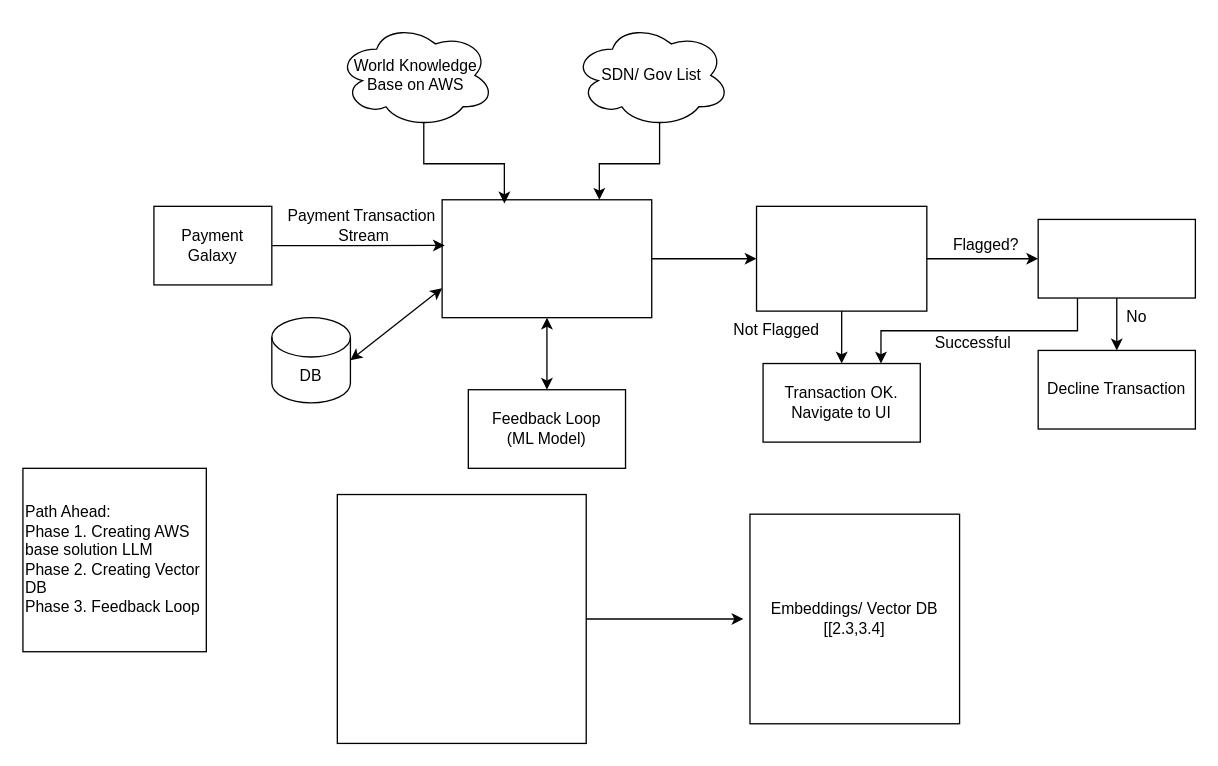
Image size: 1218x766. Some labels were removed from this diagram. Here are the shapes that lost their labels. From the top down, the centre of each, then its label:
the point at 546,258: LLM Based AWS analysis (on AWS Bedrock)
the point at 841,258: Composite Score and output
the point at 1116,258: Review
the point at 461,618: [sender name: abc sender bank: TCB, receiver name: xyz, receiver bank: S]
